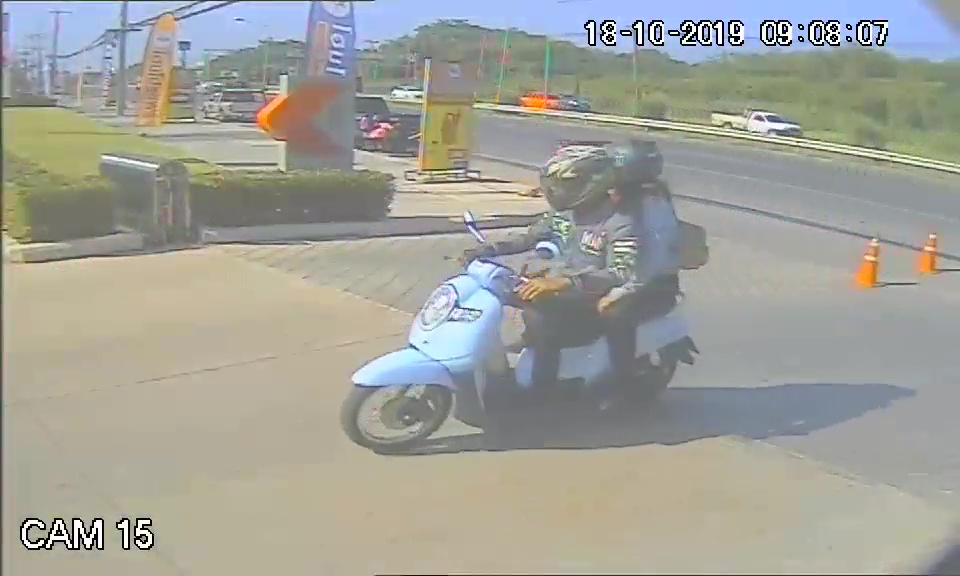motorcycle: (337, 252, 708, 452)
